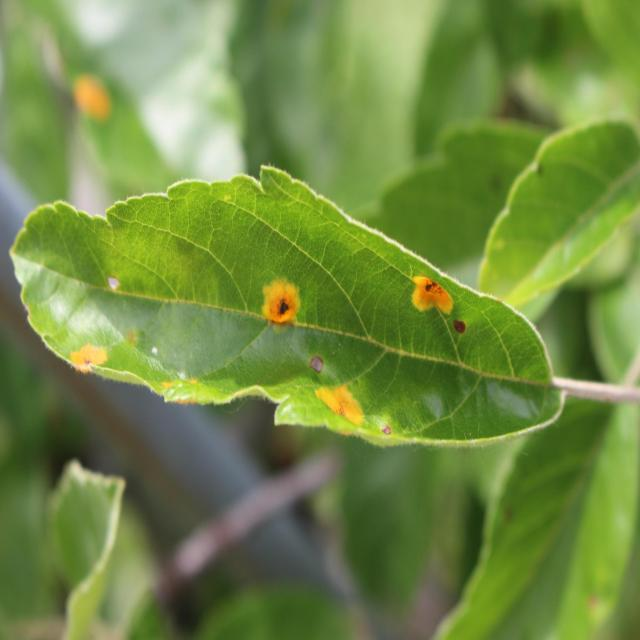Black Rot: (97, 252, 123, 303), (302, 339, 332, 379), (447, 316, 475, 352), (378, 418, 402, 446)
Rust: (240, 271, 307, 340), (400, 257, 458, 335), (297, 375, 372, 435), (56, 339, 120, 389)
